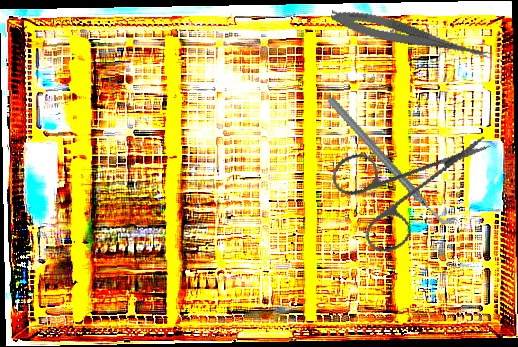Chopper: (325, 72, 458, 252)
Iris Scissors: (315, 97, 493, 274)
Micro Scissor: (328, 4, 496, 66)
